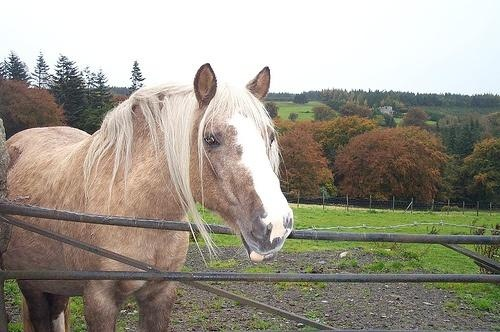horse: (3, 62, 295, 331)
